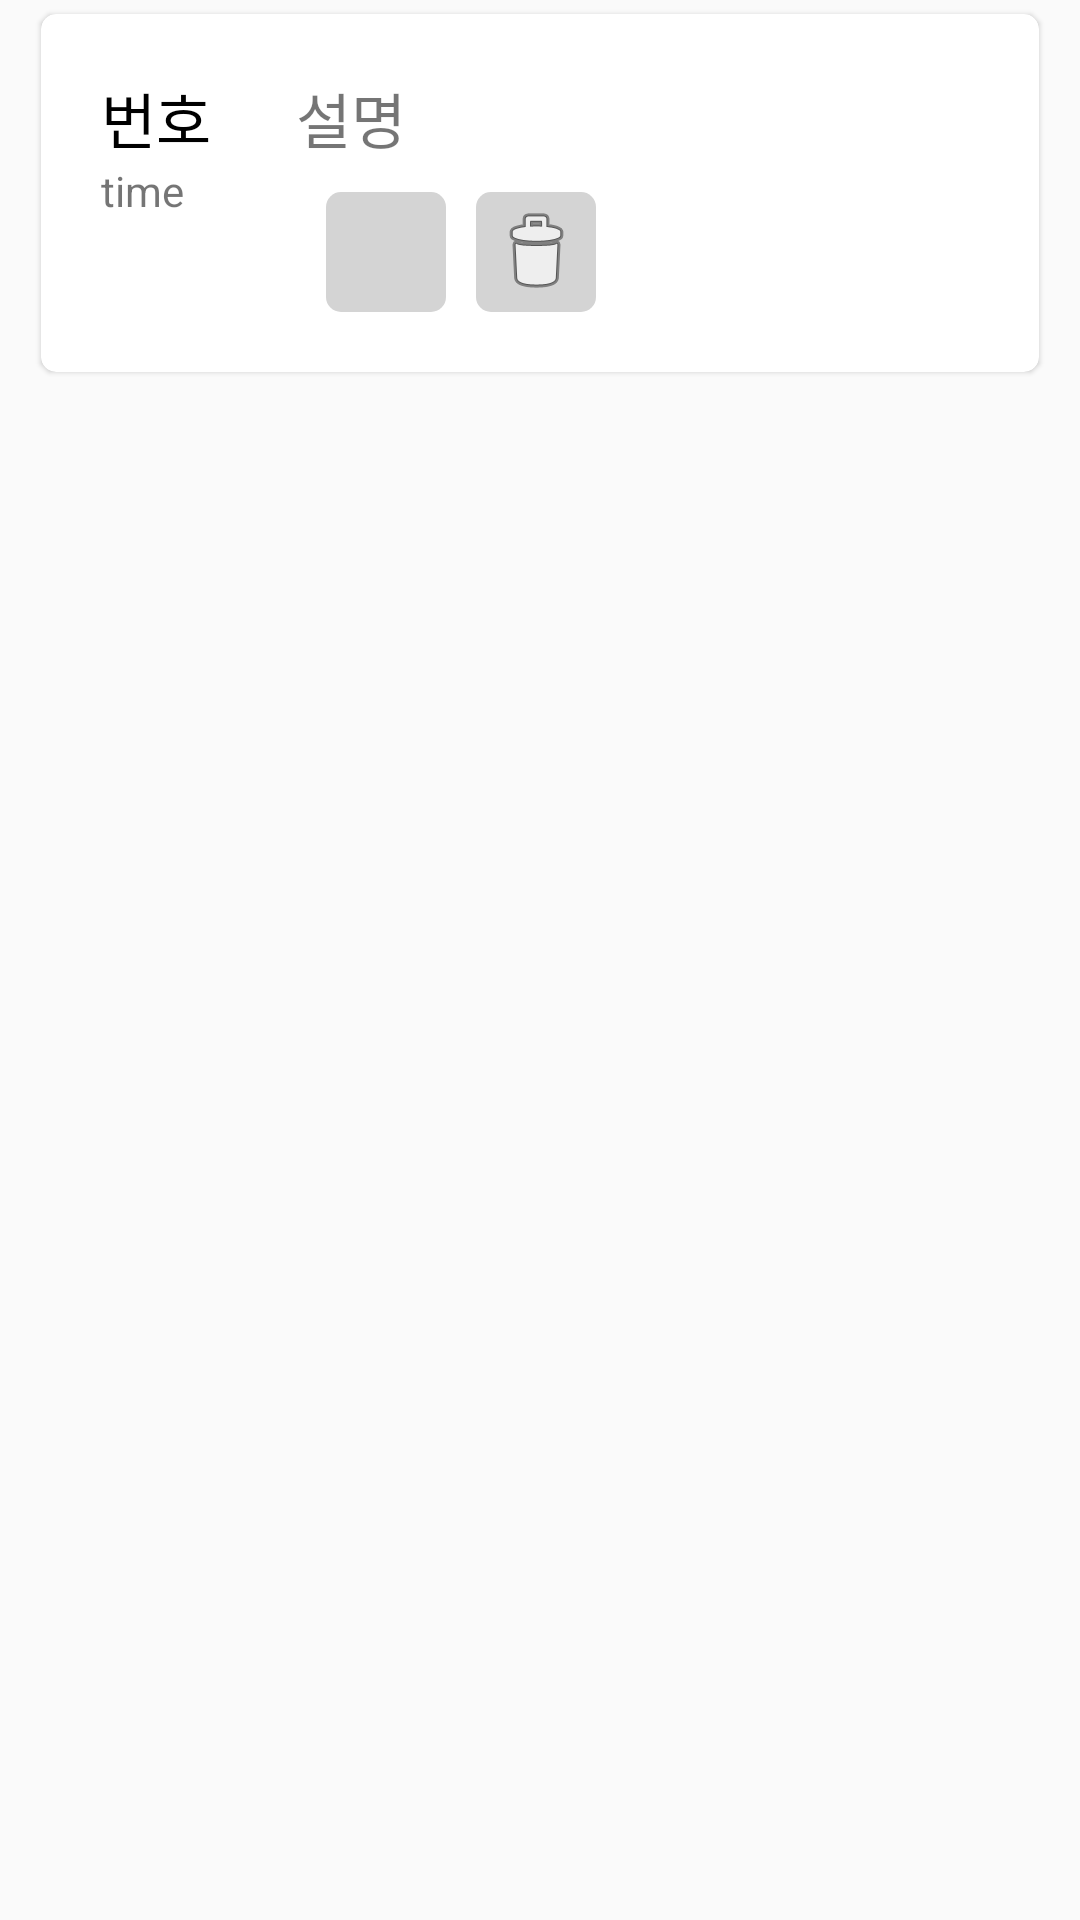

Where to tap for icons on this 1080px×1920px app screen, as point (x, y):
delete: point (536, 252)
